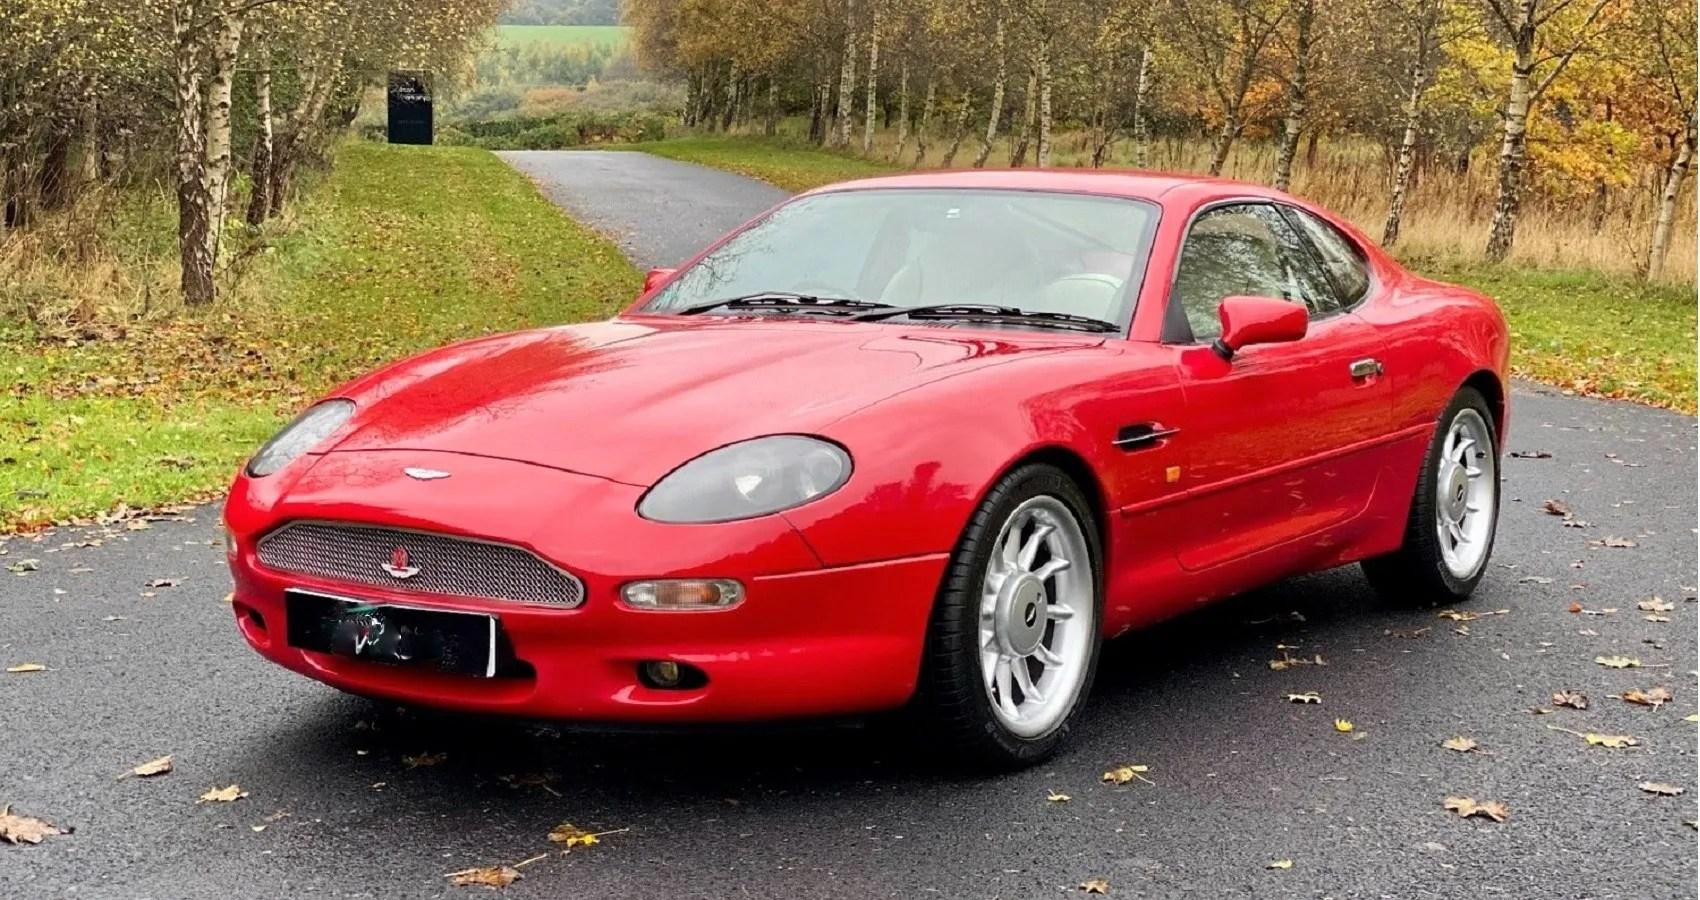windshield: (637, 180, 1170, 358)
